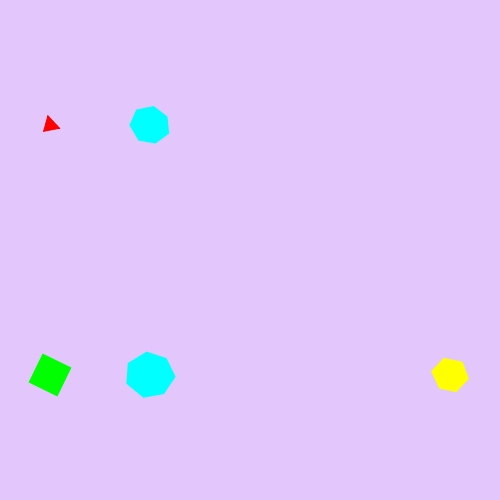heptagon: (123, 349, 178, 402), (127, 103, 174, 148)
hexagon: (427, 356, 473, 395)
quadrilateral: (24, 349, 76, 401)
triangle: (38, 112, 63, 138)
